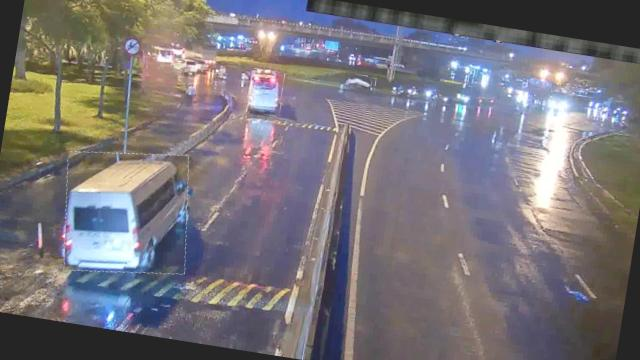Bus: (54, 141, 199, 284), (244, 67, 286, 117)
Car: (343, 72, 376, 94), (182, 56, 208, 75)
